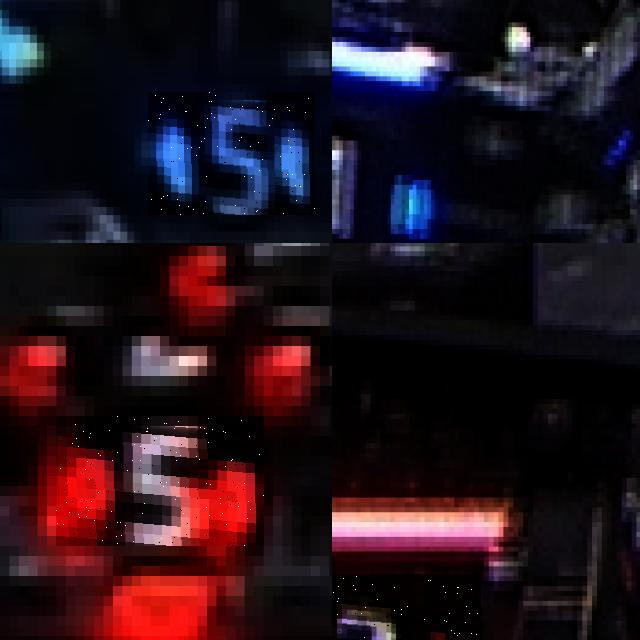B1: (332, 121, 449, 239)
B5: (148, 92, 315, 215)
R3: (332, 573, 481, 640), (592, 458, 640, 601)
R5: (56, 416, 264, 546)
